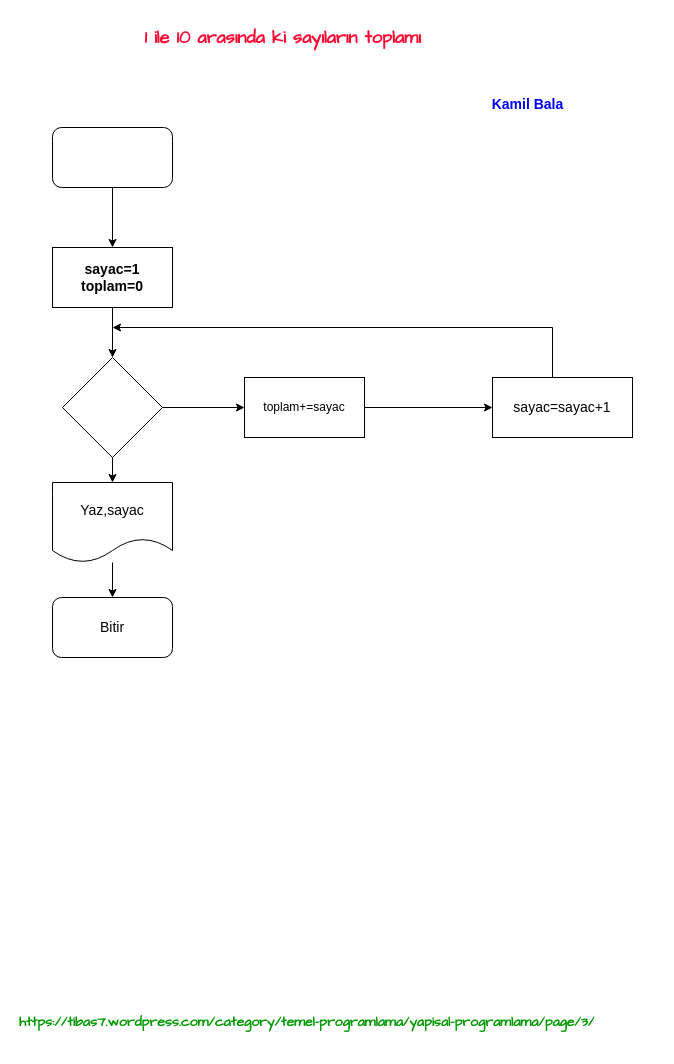
Image size: 674x1064. Some labels were removed from this diagram. The shapes that lost their labels are listed below. From the top down, each one's box as (x1, y1, x2, y2) in pixels, then its label:
(52, 126, 172, 188): Başlat
(62, 356, 162, 458): sayac<=10
